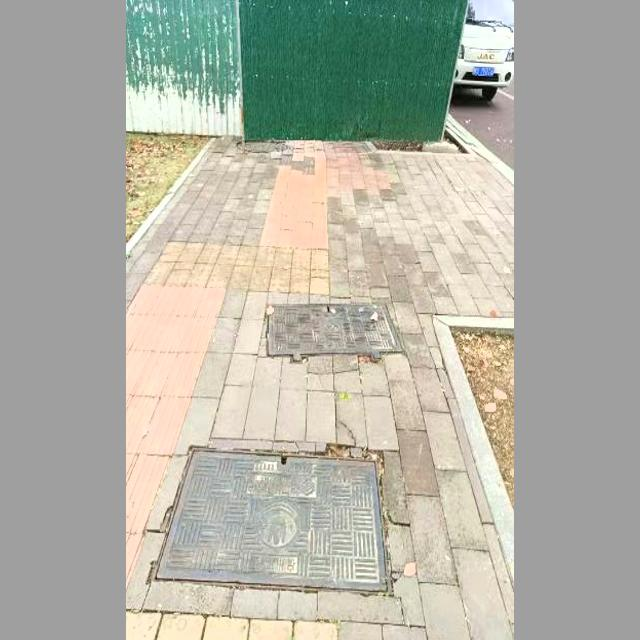good: (149, 444, 393, 597), (266, 298, 405, 364)
